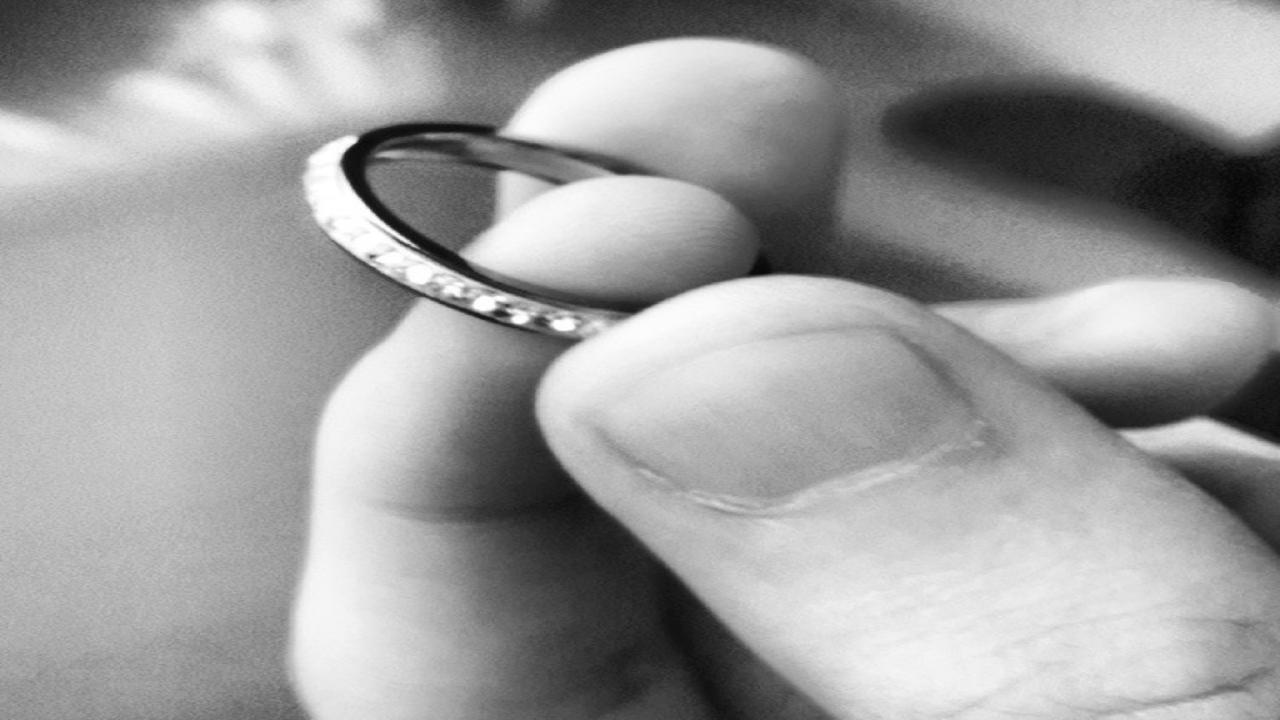ring: (298, 121, 779, 342)
